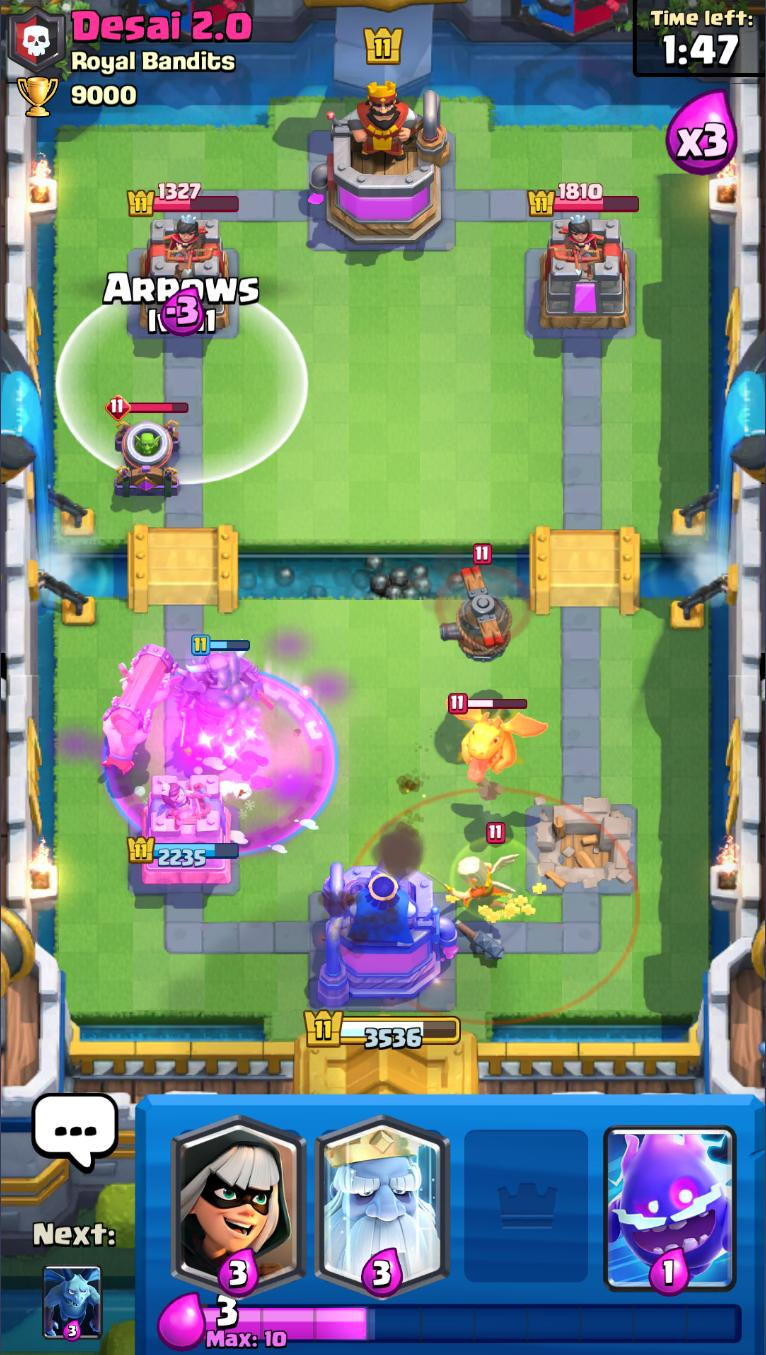BabyDragon: (449, 690, 547, 784)
BanditDeck: (166, 1096, 312, 1295)
ElectroSpiritDeck: (597, 1097, 742, 1298)
Elixir: (203, 1296, 744, 1351)
Empty: (455, 1097, 598, 1293)
EnemyTower: (135, 216, 234, 331), (537, 216, 633, 333)
EvoMortar: (104, 393, 189, 499)
FlyingMachine: (437, 540, 532, 669)
Healer: (447, 823, 519, 924)
KingTower: (307, 78, 453, 247)
MinionsNext: (41, 1262, 105, 1343)
MyBattleRam: (98, 646, 179, 772)
MyKingHP: (302, 1010, 462, 1053)
MyKingTower: (315, 859, 460, 1009)
MyPekka: (174, 637, 260, 754)
MyPrincessTower: (128, 772, 242, 890)
MyPrincessTowerBrocken: (526, 798, 641, 900)
MyPrincessTowerHP: (127, 836, 241, 869)
Rage: (104, 669, 339, 855)
RoyaleGhostDeck: (310, 1095, 451, 1290)
TowerPrincessHP: (528, 182, 640, 219), (128, 182, 241, 218)
